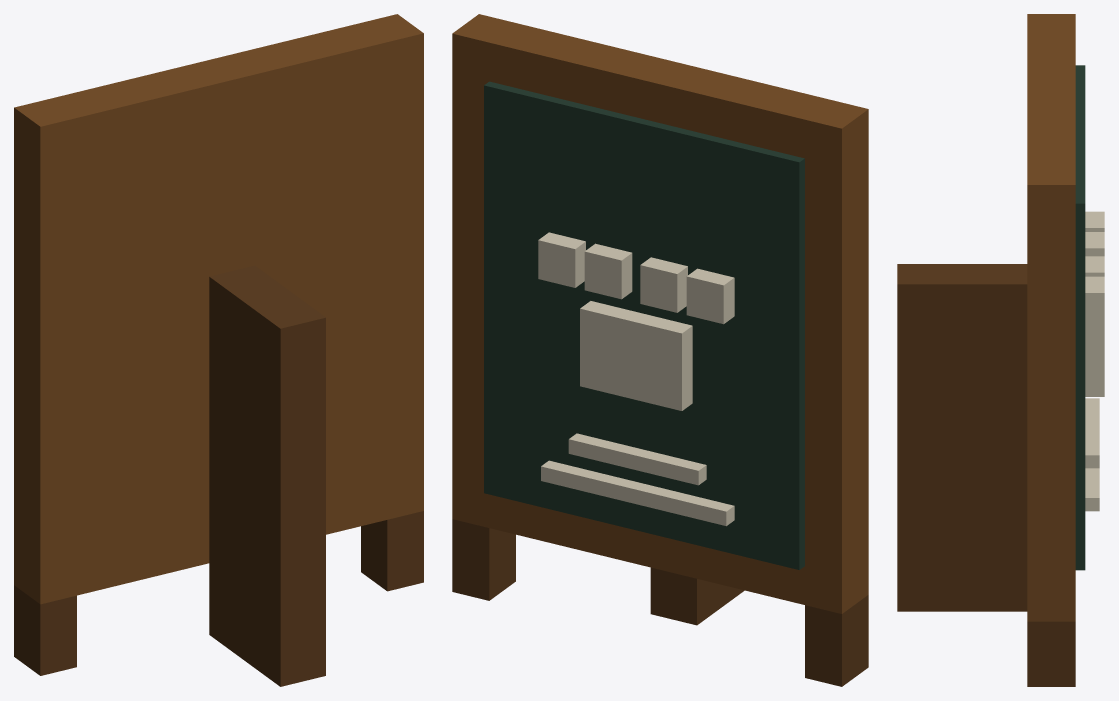
File: cp-chalkboard-paw.glb
The picture shows the model from 3 angles, left to right: view 1: azimuth 30°, elevation 25°; view 2: azimuth 150°, elevation 25°; view 3: azimuth 270°, elevation 25°; orthographic projection. The views are drawn at different scales.
Parts seen in each view (by area): view 1: box-prop; view 2: box-prop; view 3: box-prop.
Boxes of the visible parts, left/top/right/bottom form: box-prop: left=14, top=14, right=423, bottom=686; box-prop: left=452, top=14, right=868, bottom=686; box-prop: left=897, top=14, right=1104, bottom=686.
Size of the model in its own units: 0.84 by 1.15 by 0.43.
